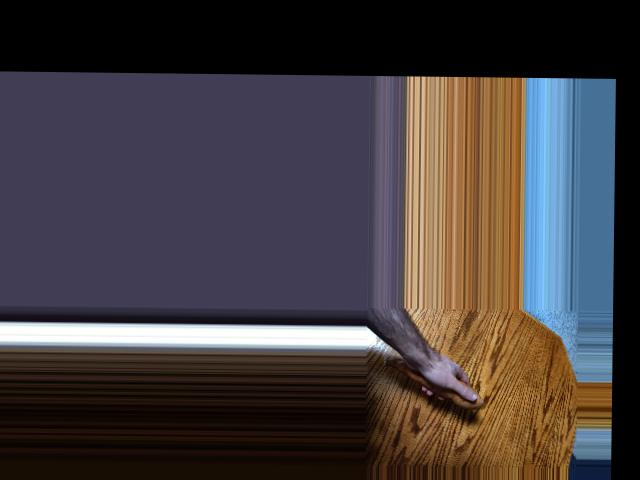sweet_potato: (377, 352, 485, 412)
